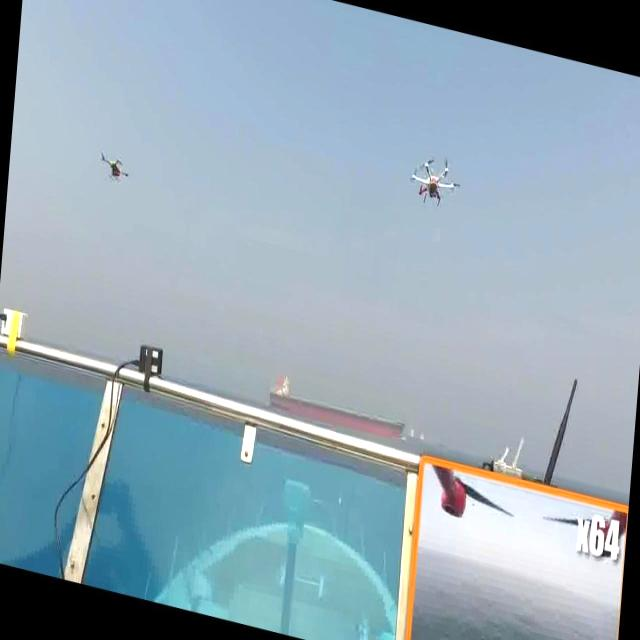drone: (397, 130, 469, 226), (96, 138, 134, 194)
